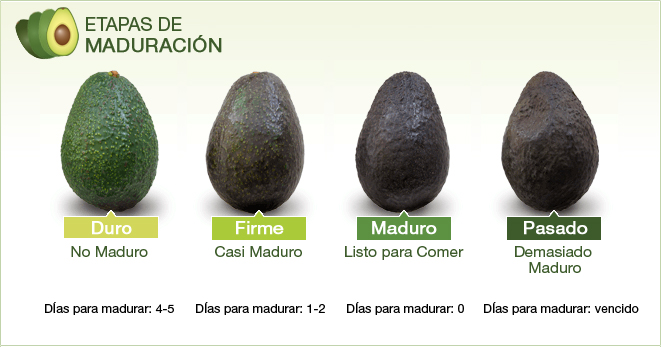fit_avocado: (349, 65, 457, 215)
unfit_avocado: (501, 61, 613, 220), (203, 68, 309, 215), (57, 72, 161, 210)
